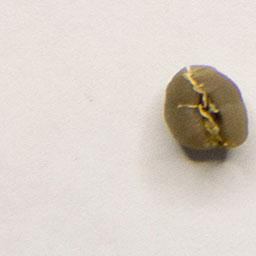peaberry: (161, 60, 251, 154)
